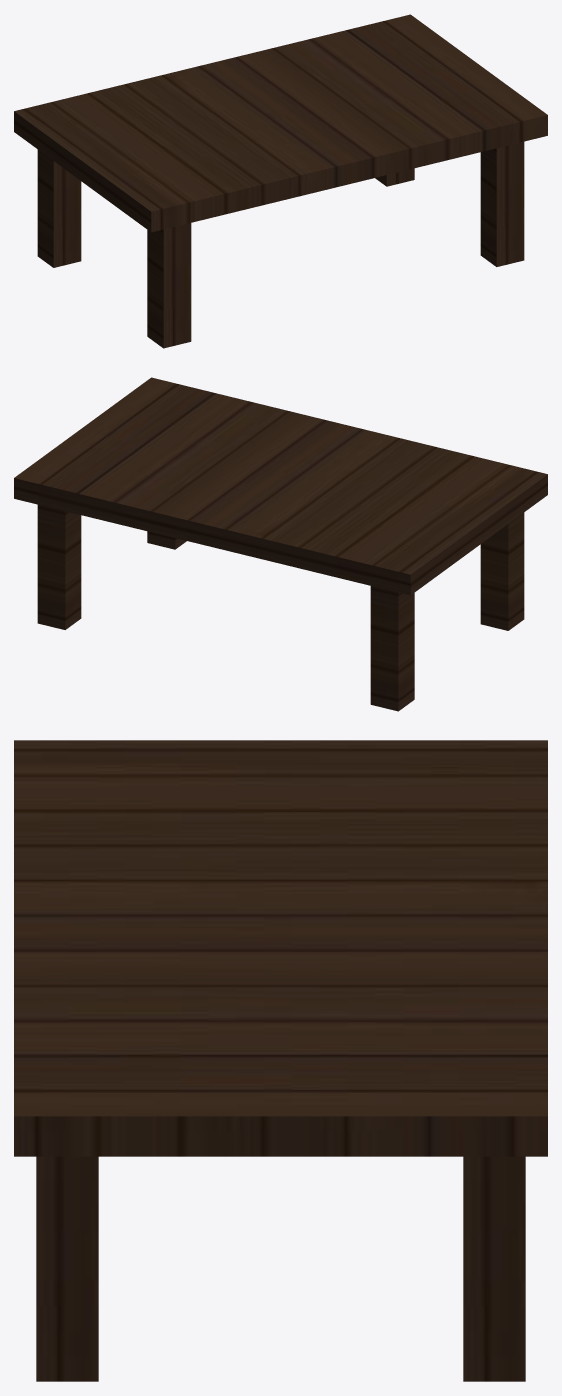
The model's file is low_table_01.glb.
3 renders of one model, top to bottom at view 1: azimuth 30°, elevation 25°; view 2: azimuth 150°, elevation 25°; view 3: azimuth 270°, elevation 25°, orthographic. The views are drawn at different scales.
Parts seen in each view (by area): view 1: low_table_01; view 2: low_table_01; view 3: low_table_01.
Boxes of the visible parts, bbox=[...] form: low_table_01: bbox=[14, 14, 547, 348]; low_table_01: bbox=[14, 377, 547, 711]; low_table_01: bbox=[14, 740, 547, 1381].
Size of the model in its own units: 1 by 0.35 by 0.6.
Materials: 1 (1 with a texture image).
